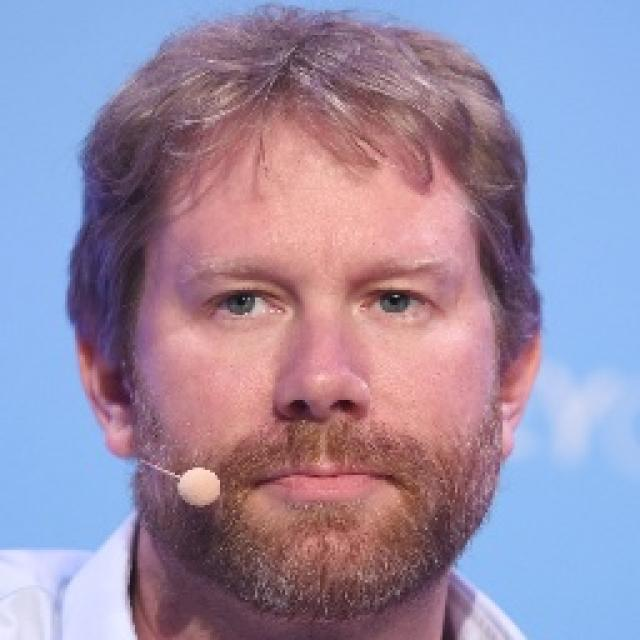earlobe: (76, 295, 142, 460), (490, 311, 545, 458)
